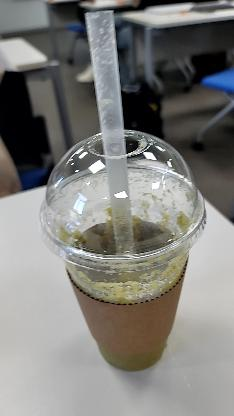Plastic Cup: (40, 128, 208, 372), (39, 128, 208, 274), (84, 15, 146, 253)
